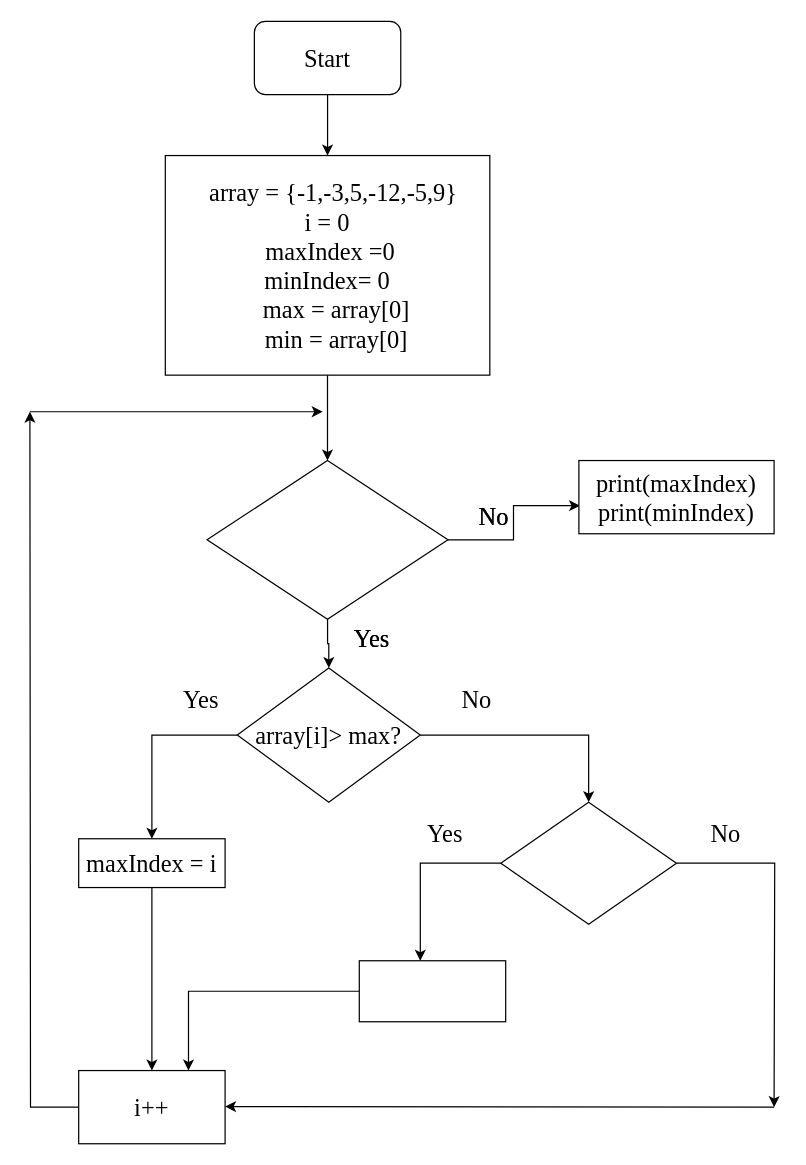
Some shapes in this 806 by 1165 pixel diagram are drawn without their labels. Here are the shapes that lost their labels. From the top down, the centre of each, then its label:
pixel 327 539: i <array.length?
pixel 588 862: array[i]< min?
pixel 432 991: minIndex = i
